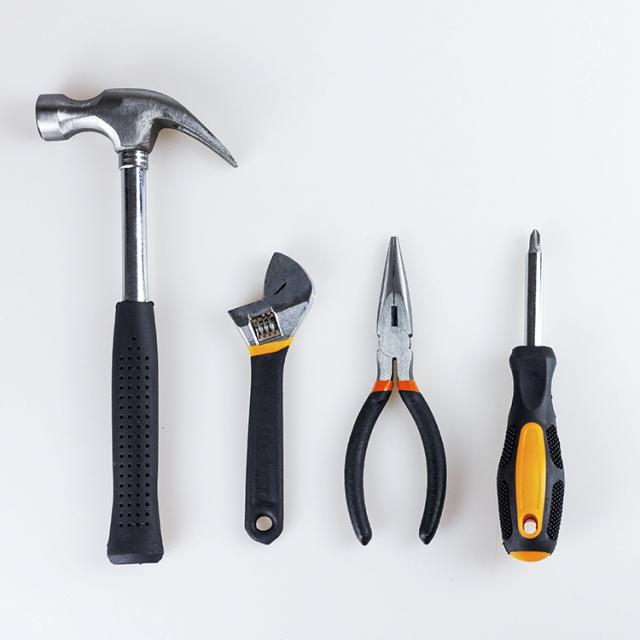Screwdriver: (496, 230, 565, 562)
